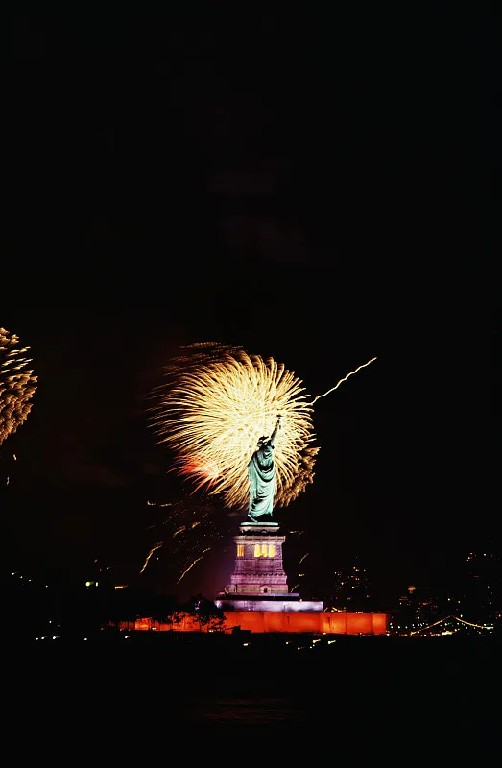SL: (229, 414, 289, 596)
